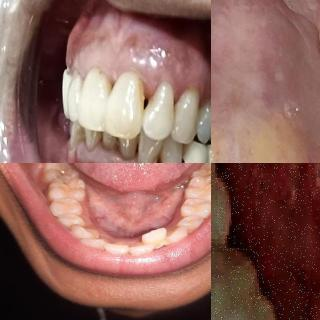calculus: (153, 233, 175, 251), (84, 226, 104, 242), (73, 218, 94, 230), (149, 154, 161, 163)
cavities: (200, 174, 211, 192)
maligned: (140, 224, 170, 250)
stains: (195, 107, 211, 147), (135, 80, 149, 114), (103, 75, 118, 97), (92, 132, 107, 149), (74, 126, 85, 148)
